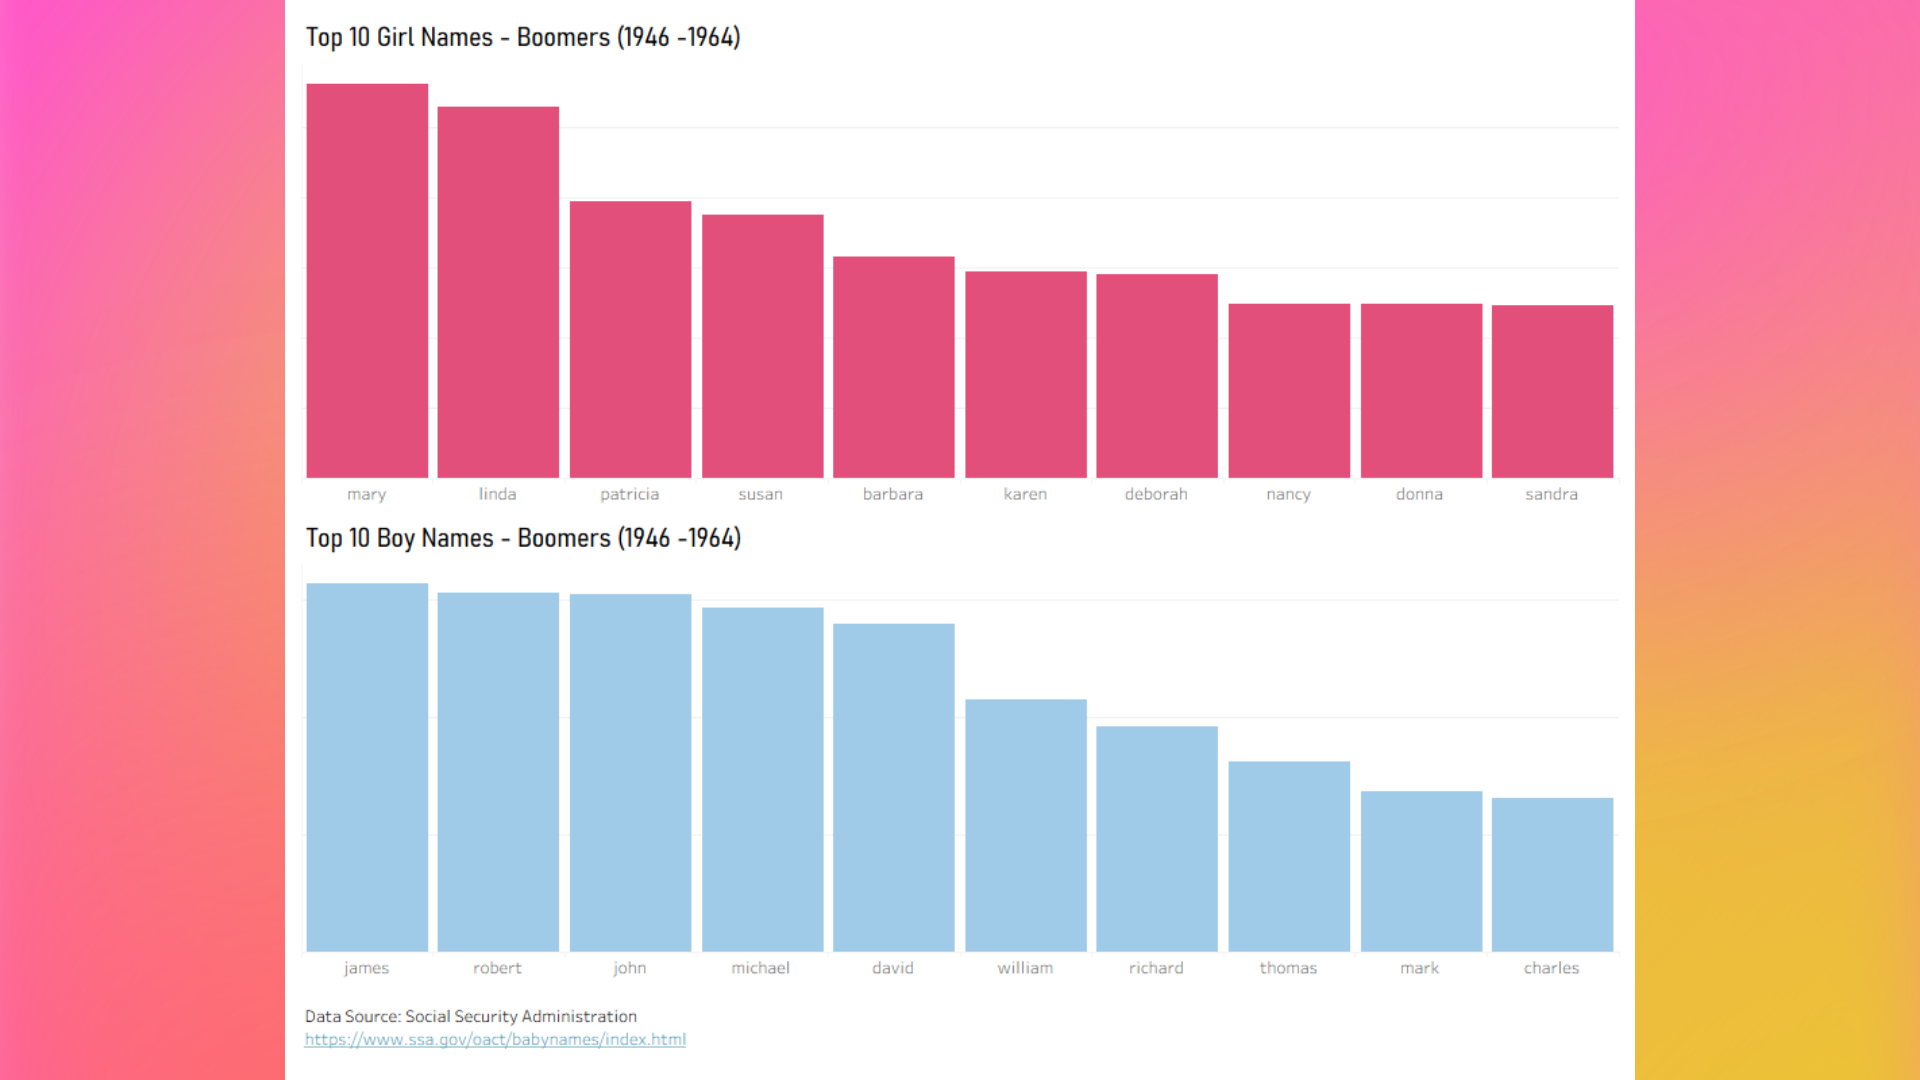

This screenshot's page, from the dashboard's own definition file:
{"tool":"tableau","page":{"name":"Top 10 Baby Names Boomers","canvas":[1000,800],"ordinal":0},"visuals":[{"type":"worksheet","title":"Top 10 Girl Names - Boomers (1946 -1964)","mark":"Bar","rows":["count"],"cols":["name"],"box":[8,8,984,371]},{"type":"worksheet","title":"Top 10 Boy Names - Boomers (1946 - 1964)","mark":"Bar","rows":["count"],"cols":["name"],"box":[8,379,984,351]},{"type":"text","box":[8,730,984,62]}]}

Visuals, with their boxes on the page's 1000x800 design canvas (x1, y1, x2, y2). These are canvas units, not pixel positions in the 1920x1080 screenshot, which may show the page scaled, cropped or inside an application window:
"Top 10 Girl Names - Boomers (1946 -1964)" worksheet (Bar marks): rect(8, 8, 992, 379)
"Top 10 Boy Names - Boomers (1946 - 1964)" worksheet (Bar marks): rect(8, 379, 992, 730)
text: rect(8, 730, 992, 792)
